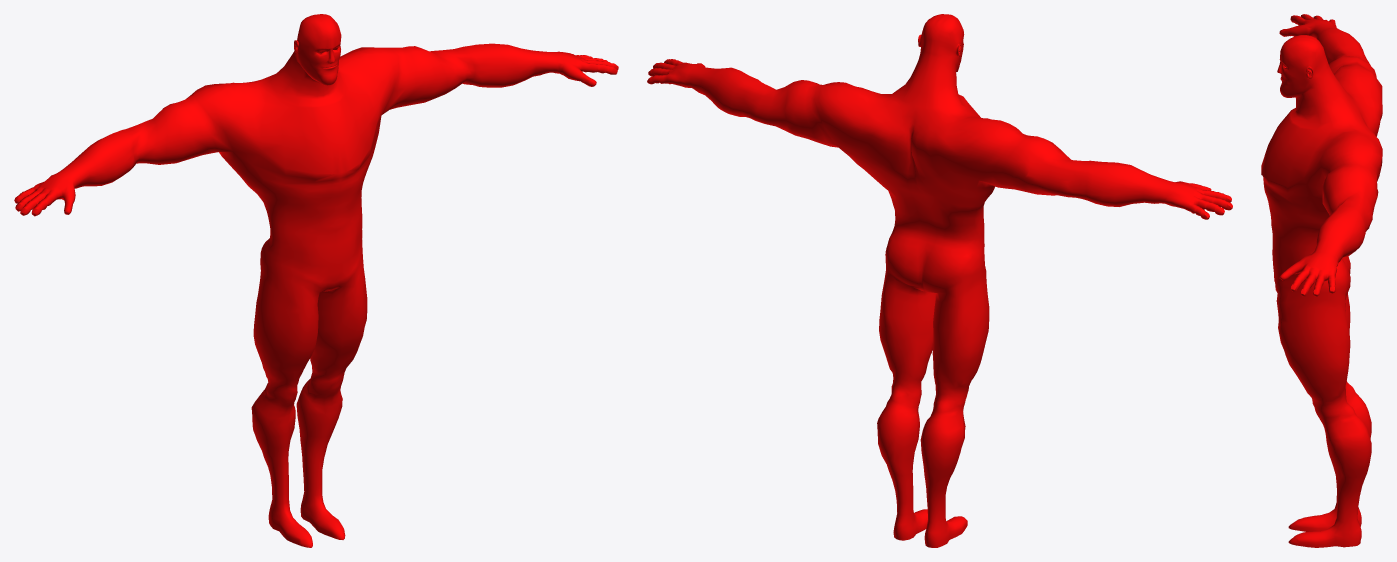
Rendered from capitan2.obj.
3 views of the same model, side by side, from view 1: azimuth 30°, elevation 25°; view 2: azimuth 150°, elevation 25°; view 3: azimuth 270°, elevation 25° (orthographic). The views are drawn at different scales.
Visible parts, largest first — view 1: captainatom_body_geo captainatom_geo_grp polySurface1; view 2: captainatom_body_geo captainatom_geo_grp polySurface1; view 3: captainatom_body_geo captainatom_geo_grp polySurface1.
Boxes of the visible parts, bbox=[...] form: captainatom_body_geo captainatom_geo_grp polySurface1: bbox=[14, 14, 618, 547]; captainatom_body_geo captainatom_geo_grp polySurface1: bbox=[647, 14, 1232, 547]; captainatom_body_geo captainatom_geo_grp polySurface1: bbox=[1261, 14, 1382, 547].
Size of the model in its own units: 49.58 by 41.4 by 9.14.
